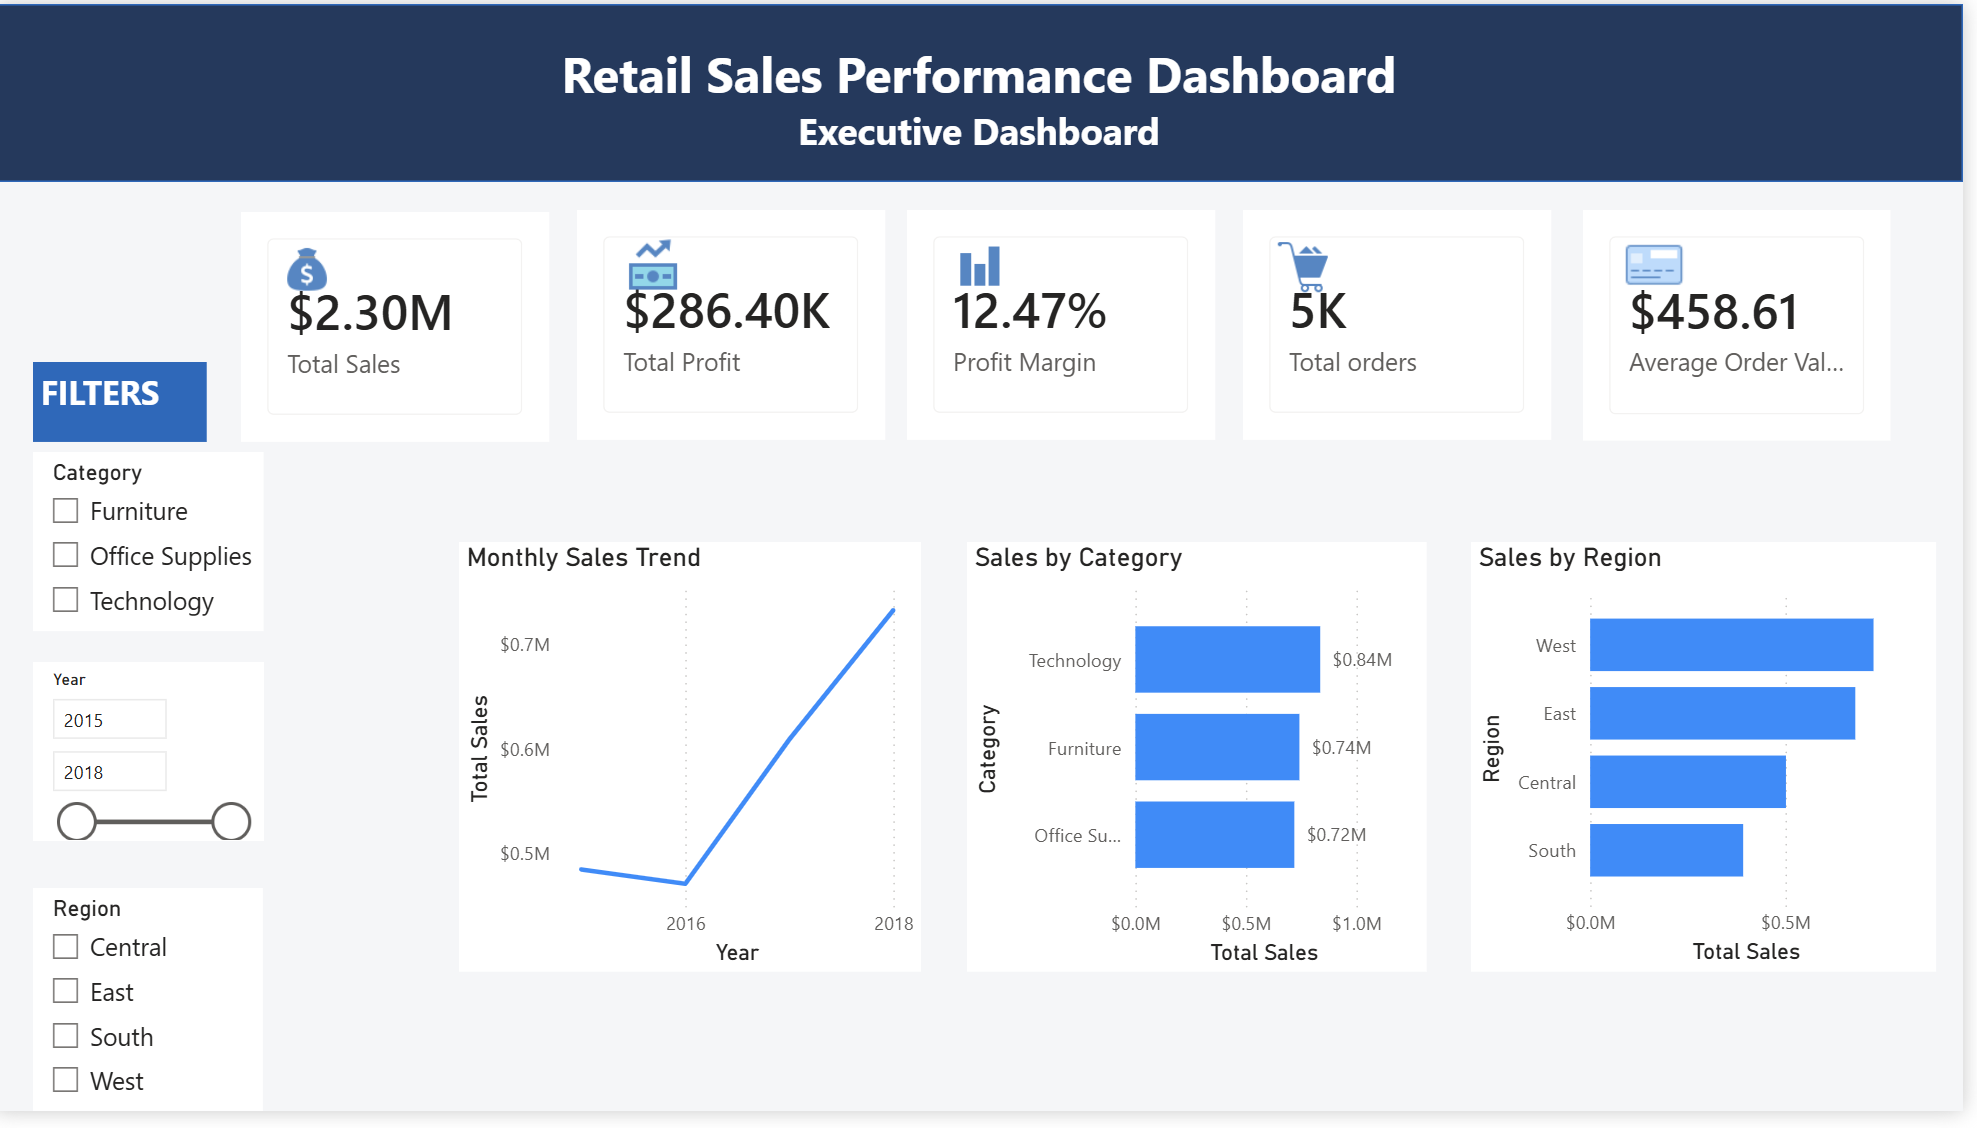

This screenshot's page, from the dashboard's own definition file:
{"tool":"powerbi","page":{"name":"Executive Dashboard","canvas":[1280,720],"ordinal":0},"visuals":[{"type":"cardVisual","fields":{"Data":["Measures (2).Average Order Value"]},"box":[1033.4,133.6,200,150],"z":0},{"type":"cardVisual","fields":{"Data":["Measures (2).Total Profit"]},"box":[378.5,134,200.3,149.6],"z":1000},{"type":"cardVisual","fields":{"Data":["Measures (2).Total Sales"]},"box":[160,135.3,200.3,149.6],"z":2000},{"type":"cardVisual","fields":{"Data":["Measures (2).Total orders"]},"box":[811.7,134,200.3,149.6],"z":3000},{"type":"cardVisual","fields":{"Data":["Measures (2).Profit Margin"]},"box":[593.2,134,200.3,149.6],"z":4000},{"type":"lineChart","title":"Monthly Sales Trend","fields":{"Y":["Measures (2).Total Sales"],"Category":["Calendar.Year","Calendar.Month Name"]},"box":[301.8,349.9,300.5,279.7],"z":5000},{"type":"clusteredBarChart","title":"Sales by Category","fields":{"Y":["Measures (2).Total Sales"],"Category":["Orders.Category"]},"box":[632.2,349.9,299.2,279.7],"z":6000},{"type":"barChart","title":"Sales by Region","fields":{"Category":["People.Region"],"Y":["Measures (2).Total Sales"]},"box":[959.4,349.5,302.7,279.4],"z":7000},{"type":"slicer","fields":{"Values":["People.Region"]},"box":[24.9,575.4,149.5,145],"z":8000},{"type":"slicer","fields":{"Values":["Calendar.Year"]},"box":[24.6,427.4,150,116],"z":9000},{"type":"slicer","fields":{"Values":["Orders.Category"]},"box":[24.9,291.1,150,116.7],"z":10000},{"type":"image","box":[1057.6,145.7,42.9,48.1],"z":11000},{"type":"image","box":[827.3,153.5,48.1,33.8],"z":12000},{"type":"image","box":[616.6,153.5,48.1,33.8],"z":13000},{"type":"image","box":[184.7,152.2,36.4,42.9],"z":14000},{"type":"image","box":[403.3,152.2,49.4,37.7],"z":15000},{"type":"textbox","box":[24.7,232.8,113.2,52],"z":16000},{"type":"shape","box":[0,0,1280,115.8],"z":17000},{"type":"textbox","box":[333,18.2,614,115.8],"z":18000}]}

Visuals, with their boxes in screenshot pixels (x1, y1, x2, y2), scaled from the page's 1280x720 canvas onto the 1977x1128 screenshot:
cardVisual - Measures (2).Average Order Value: <region>1596, 209, 1905, 444</region>
cardVisual - Measures (2).Total Profit: <region>585, 210, 894, 444</region>
cardVisual - Measures (2).Total Sales: <region>247, 212, 556, 446</region>
cardVisual - Measures (2).Total orders: <region>1254, 210, 1563, 444</region>
cardVisual - Measures (2).Profit Margin: <region>916, 210, 1226, 444</region>
"Monthly Sales Trend" lineChart: <region>466, 548, 930, 986</region>
"Sales by Category" clusteredBarChart: <region>976, 548, 1439, 986</region>
"Sales by Region" barChart: <region>1482, 548, 1949, 985</region>
slicer - People.Region: <region>38, 901, 269, 1127</region>
slicer - Calendar.Year: <region>38, 670, 270, 851</region>
slicer - Orders.Category: <region>38, 456, 270, 639</region>
image: <region>1633, 228, 1700, 304</region>
image: <region>1278, 240, 1352, 293</region>
image: <region>952, 240, 1027, 293</region>
image: <region>285, 238, 341, 306</region>
image: <region>623, 238, 699, 298</region>
textbox: <region>38, 365, 213, 446</region>
shape: <region>0, 0, 1976, 181</region>
textbox: <region>514, 29, 1463, 210</region>
